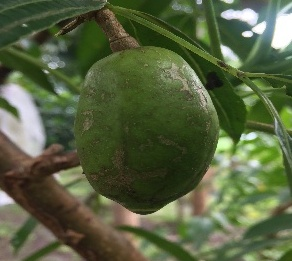Coc: (62, 41, 219, 222)
